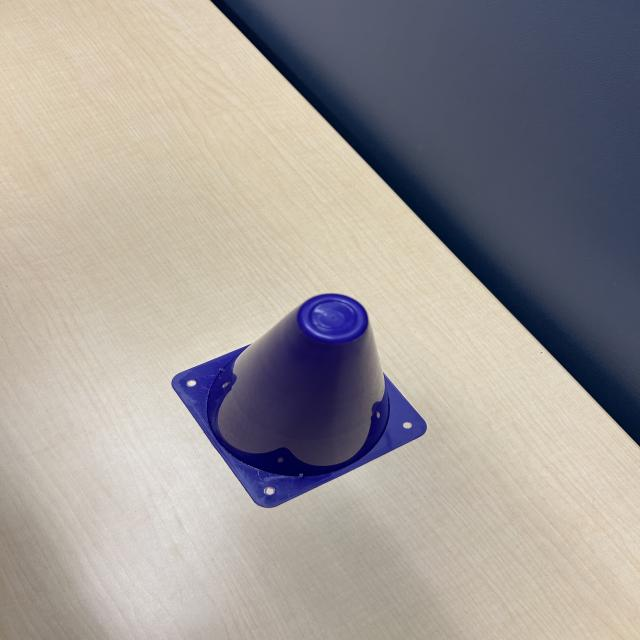purple cone: (158, 286, 430, 509)
